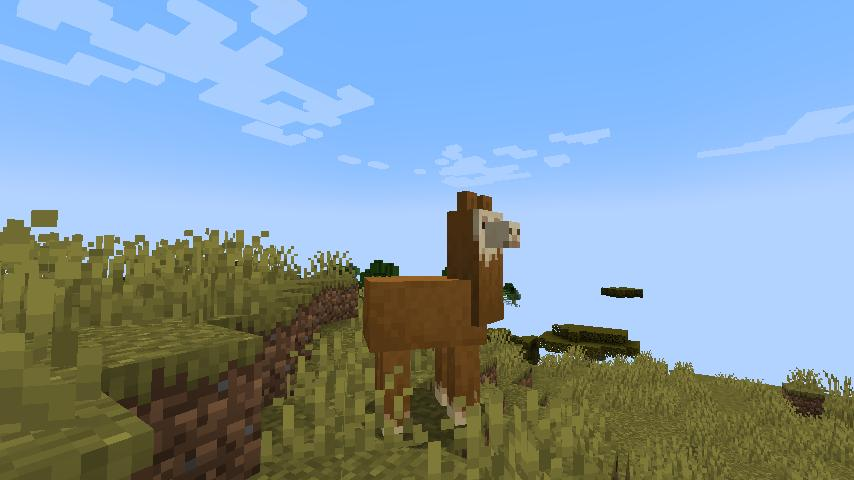llama: (362, 185, 523, 432)
